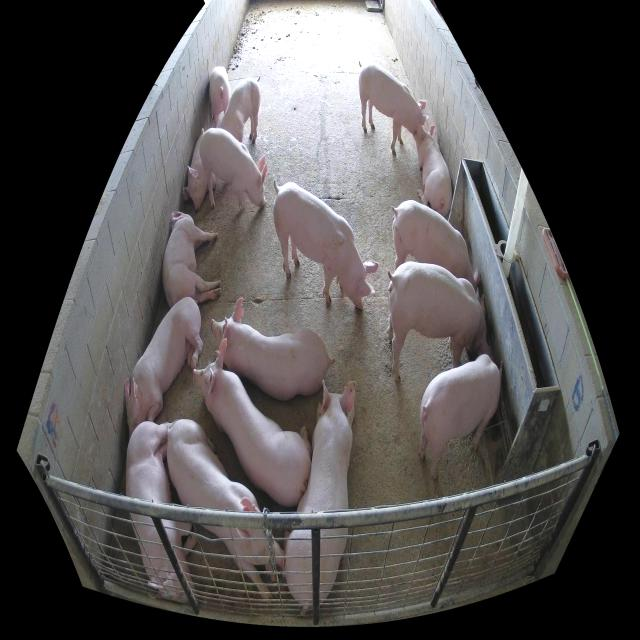pig: (167, 418, 285, 600), (192, 336, 310, 507), (282, 377, 356, 609), (126, 416, 204, 605), (273, 183, 379, 309), (386, 262, 490, 386), (211, 296, 330, 396), (125, 299, 203, 438), (417, 355, 502, 481), (393, 201, 481, 295), (358, 61, 429, 155), (162, 211, 221, 307), (199, 127, 268, 209), (415, 123, 452, 217), (220, 77, 262, 145), (183, 140, 206, 210), (209, 65, 230, 127)
